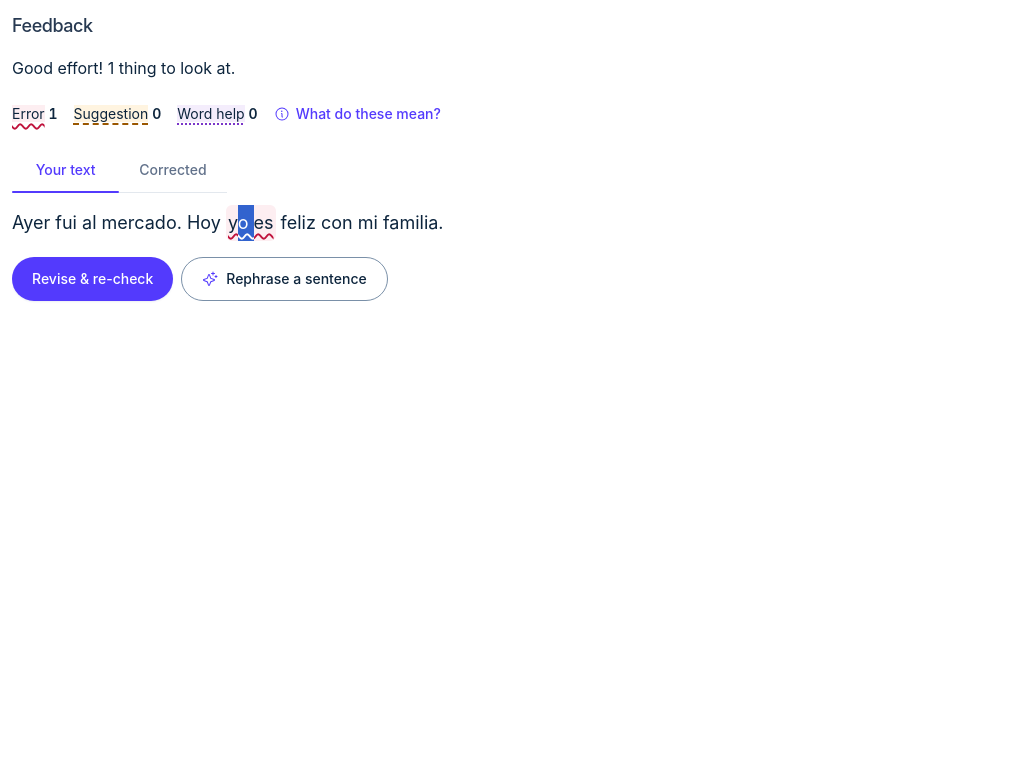
it: RevisableFeedback rephrase › forgets a selection read on pointer-down when the pointer leaves the button
This screenshot has width=1036, height=780.
Press the mouse on the button "Rephrase a sentence" at (284, 279), box left=181, top=257, right=388, bottom=301
Click the button "Rephrase a sentence" at (284, 279), box left=181, top=257, right=388, bottom=301
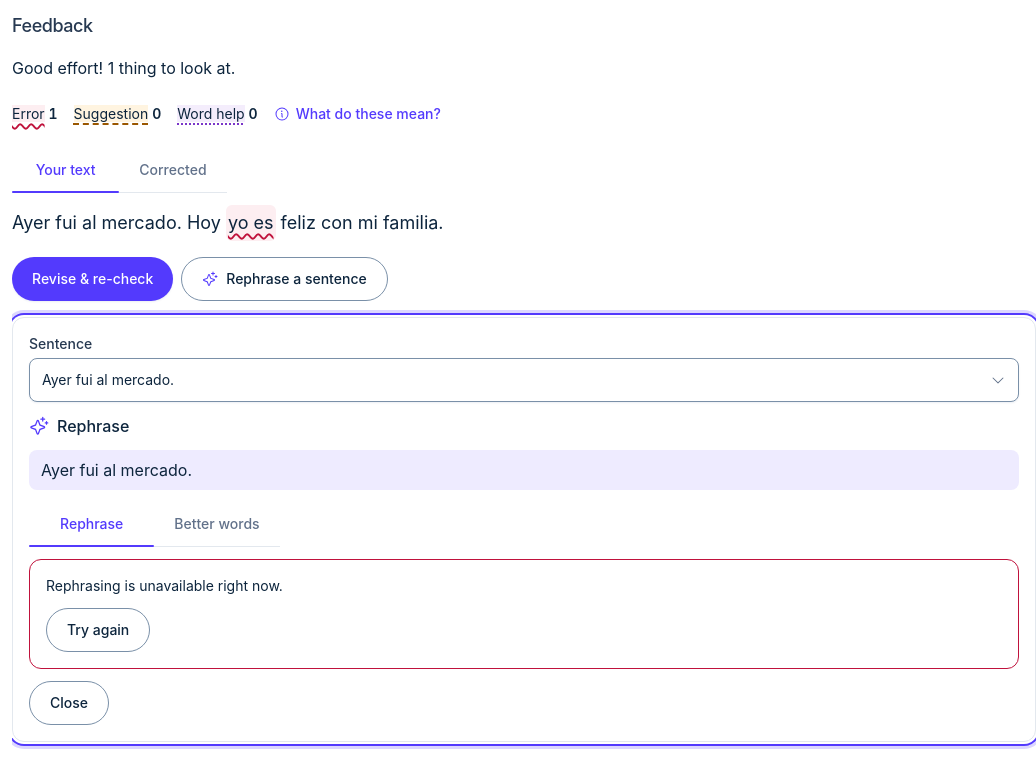
Expected: the dropdown named "Sentence" reads "Ayer fui al mercado.", left=29, top=358, right=1019, bottom=402
